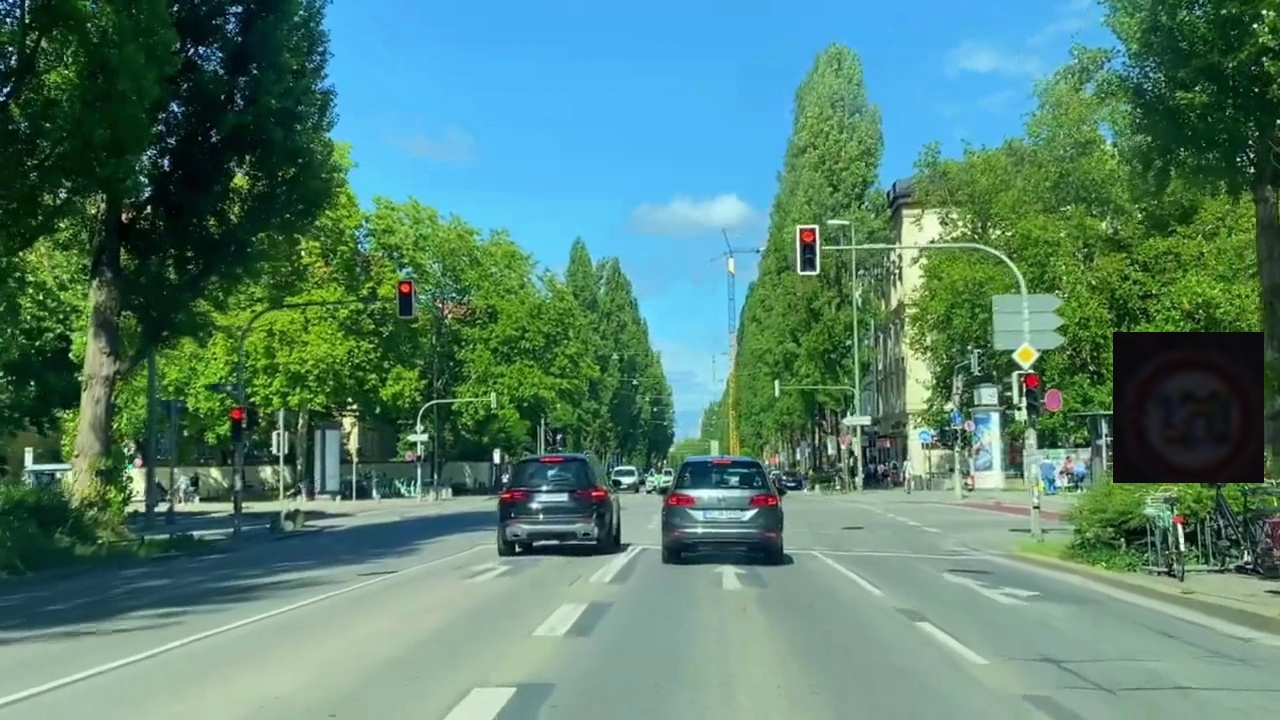Speed 120: (1113, 332, 1264, 483)
